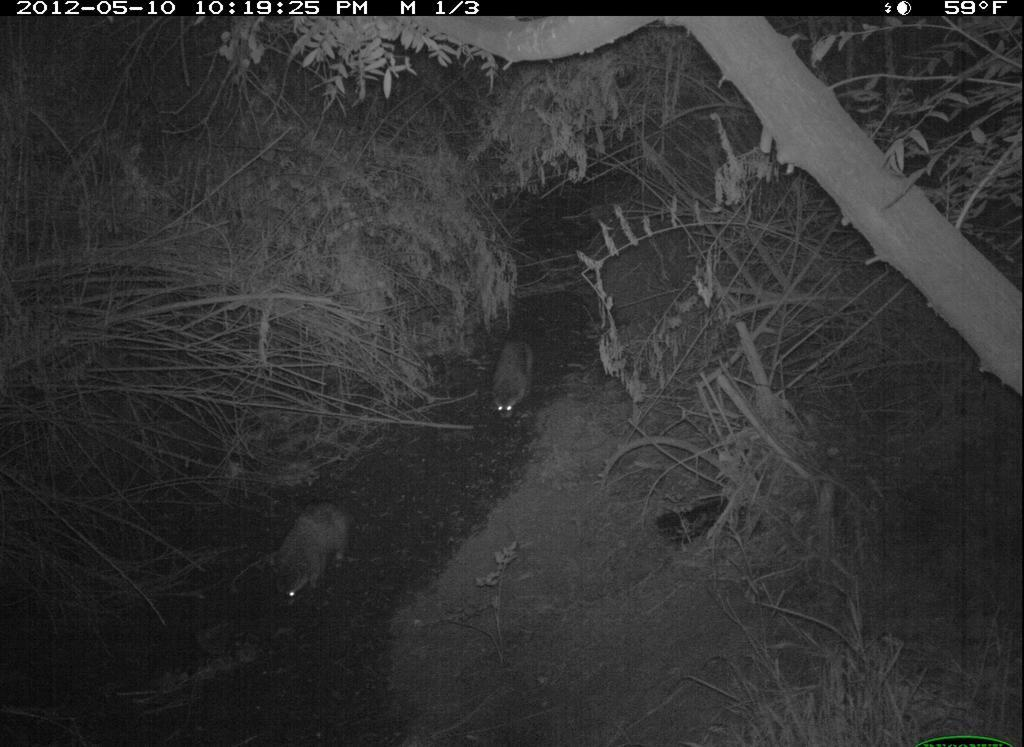raccoon: (265, 495, 361, 617), (470, 331, 548, 432)
